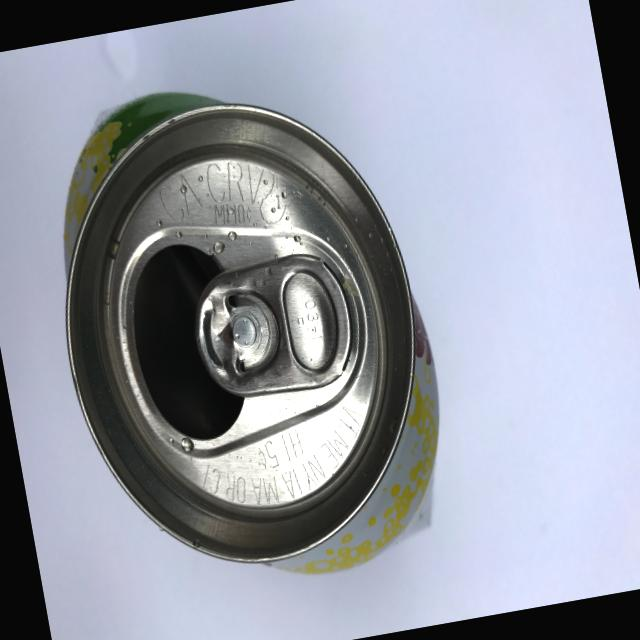Metal: (20, 61, 466, 602)
